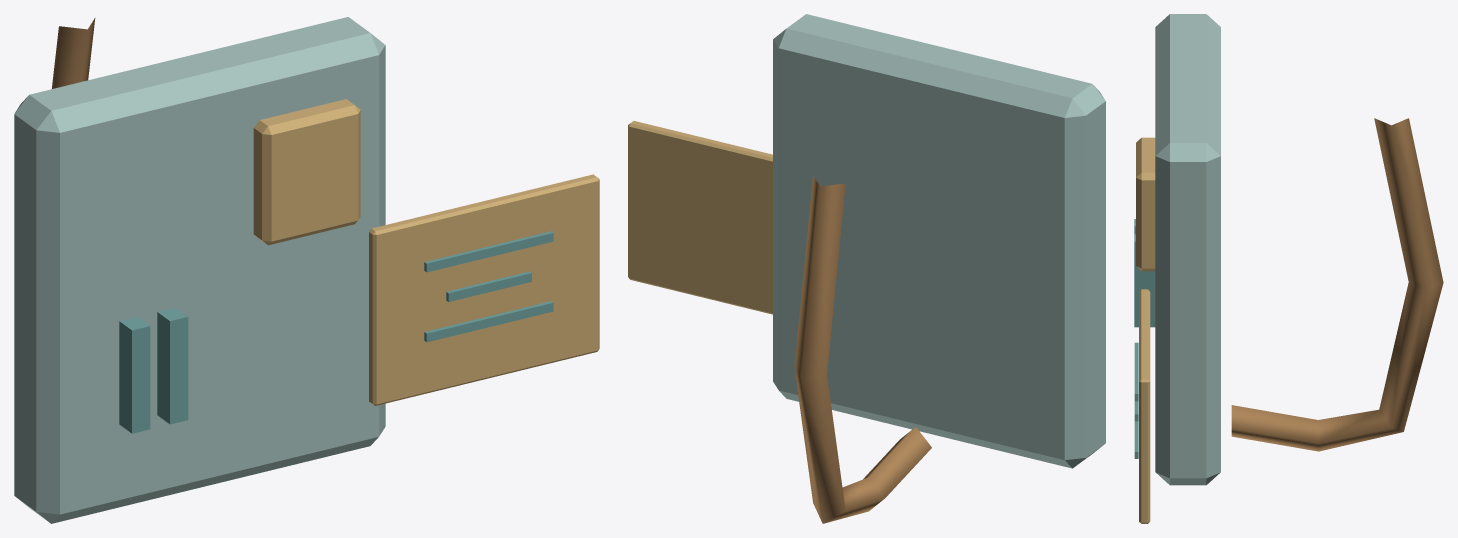
The model's file is object_nurse.glb.
3 renders of one model, left to right at view 1: azimuth 30°, elevation 25°; view 2: azimuth 150°, elevation 25°; view 3: azimuth 270°, elevation 25°, orthographic. The views are drawn at different scales.
Parts seen in each view (by area): view 1: object_nurse; view 2: object_nurse; view 3: object_nurse.
Part boxes in pixels (left/top/right/bottom): object_nurse: left=14, top=17, right=599, bottom=523; object_nurse: left=628, top=14, right=1105, bottom=523; object_nurse: left=1134, top=14, right=1443, bottom=523.
Size of the model in its own units: 0.3598 by 0.2834 by 0.2128.
